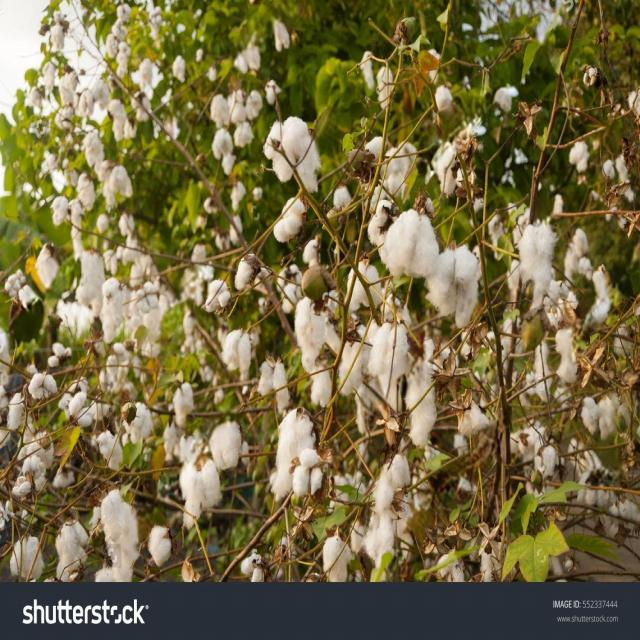Leaf: (264, 392, 338, 524), (250, 101, 329, 206), (374, 193, 452, 298), (89, 477, 160, 591), (422, 232, 490, 338), (512, 220, 564, 326), (171, 454, 231, 537), (206, 319, 257, 400), (368, 314, 417, 390), (202, 404, 251, 480), (74, 244, 114, 303)
